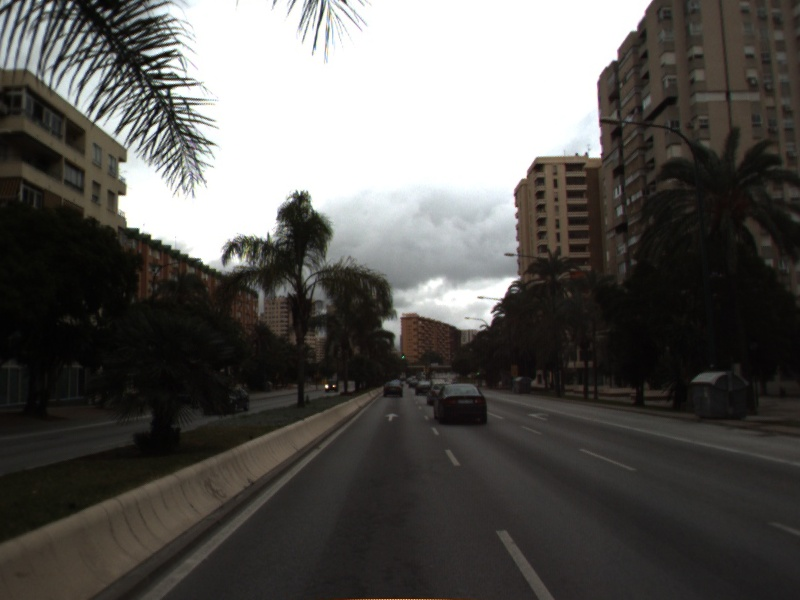RIGHT: (524, 409, 552, 423)
STRAIGHT: (382, 411, 402, 423)
